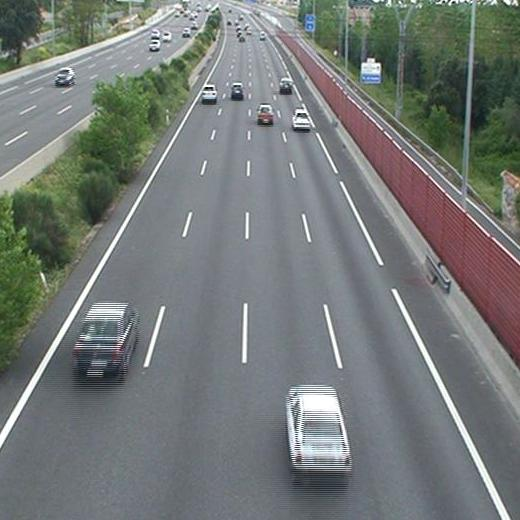car: (287, 386, 352, 477), (74, 304, 137, 376), (292, 110, 311, 129), (258, 104, 274, 123), (202, 85, 217, 101), (279, 78, 292, 91), (231, 83, 243, 97), (259, 32, 266, 41)
